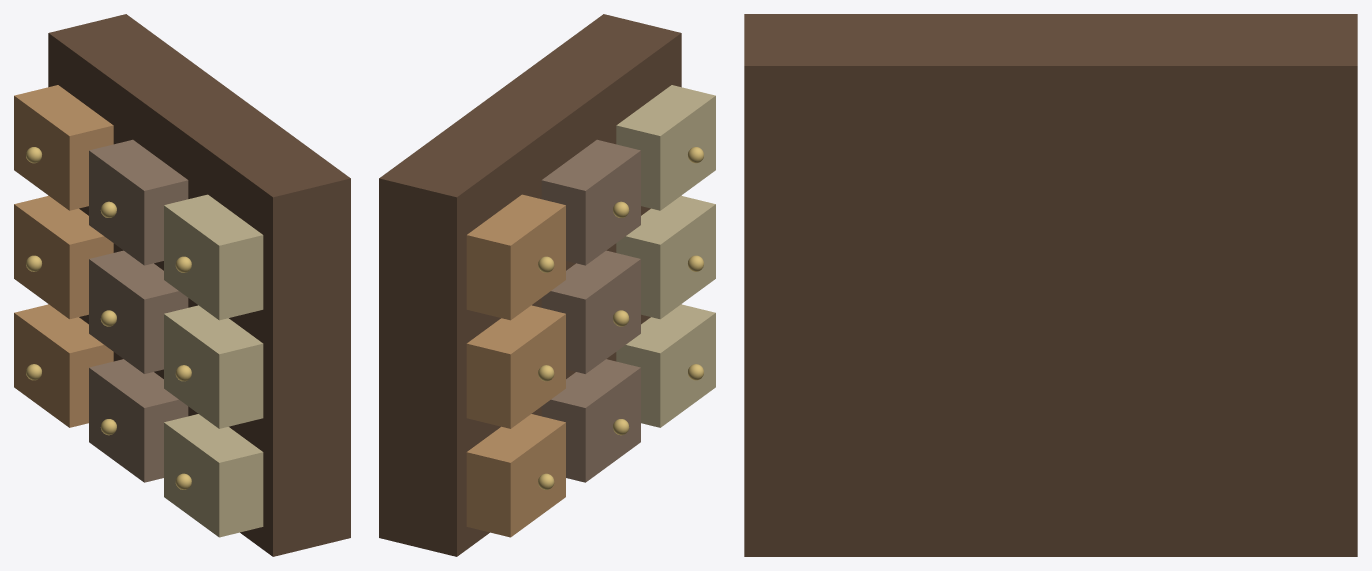
3 views of the same model, side by side, from view 1: azimuth 30°, elevation 25°; view 2: azimuth 150°, elevation 25°; view 3: azimuth 270°, elevation 25° (orthographic). The views are drawn at different scales.
Size of the model in its own units: 1.06 by 2.65 by 3.
